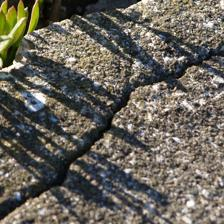Crack: (0, 148, 146, 213), (66, 63, 192, 106)
